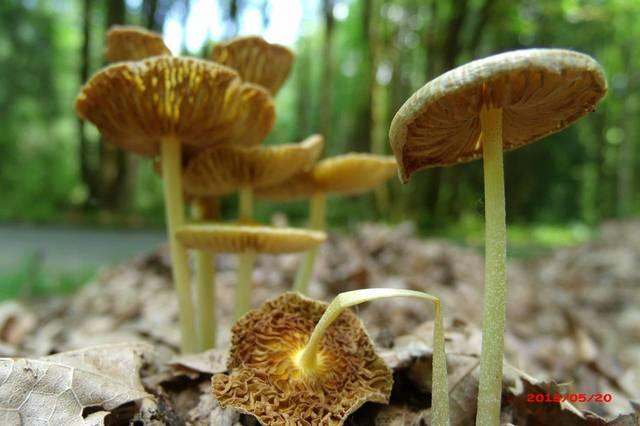edible_mushroom: (387, 46, 608, 425), (74, 51, 275, 353), (210, 290, 394, 425), (279, 120, 397, 210)
